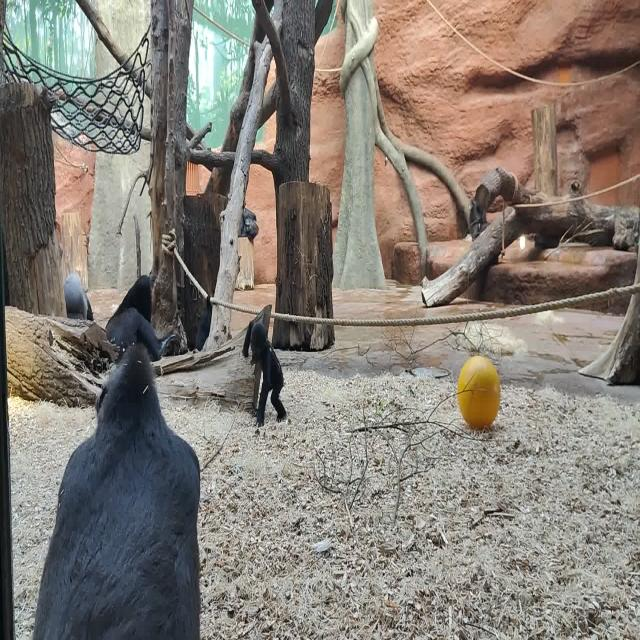monkey: (33, 341, 201, 640), (106, 274, 178, 362), (242, 320, 286, 428), (238, 207, 259, 242)
